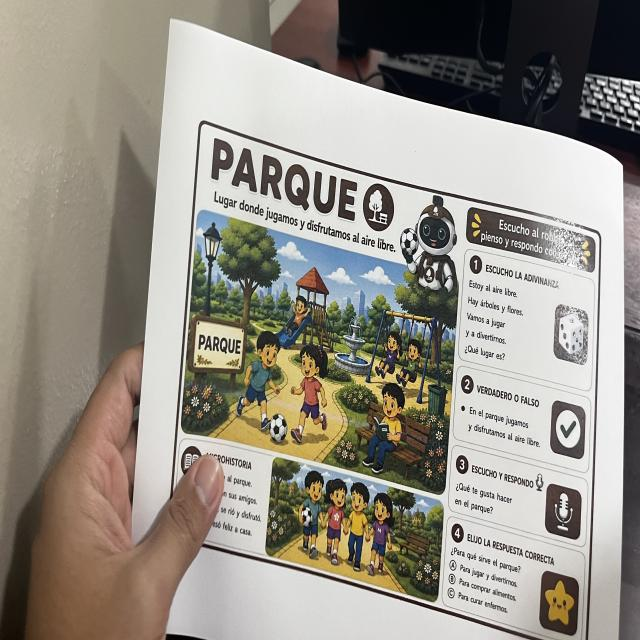parque: (164, 114, 605, 640)
